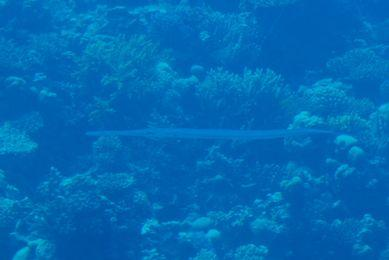Fistularia commersonii: (60, 95, 343, 160)
